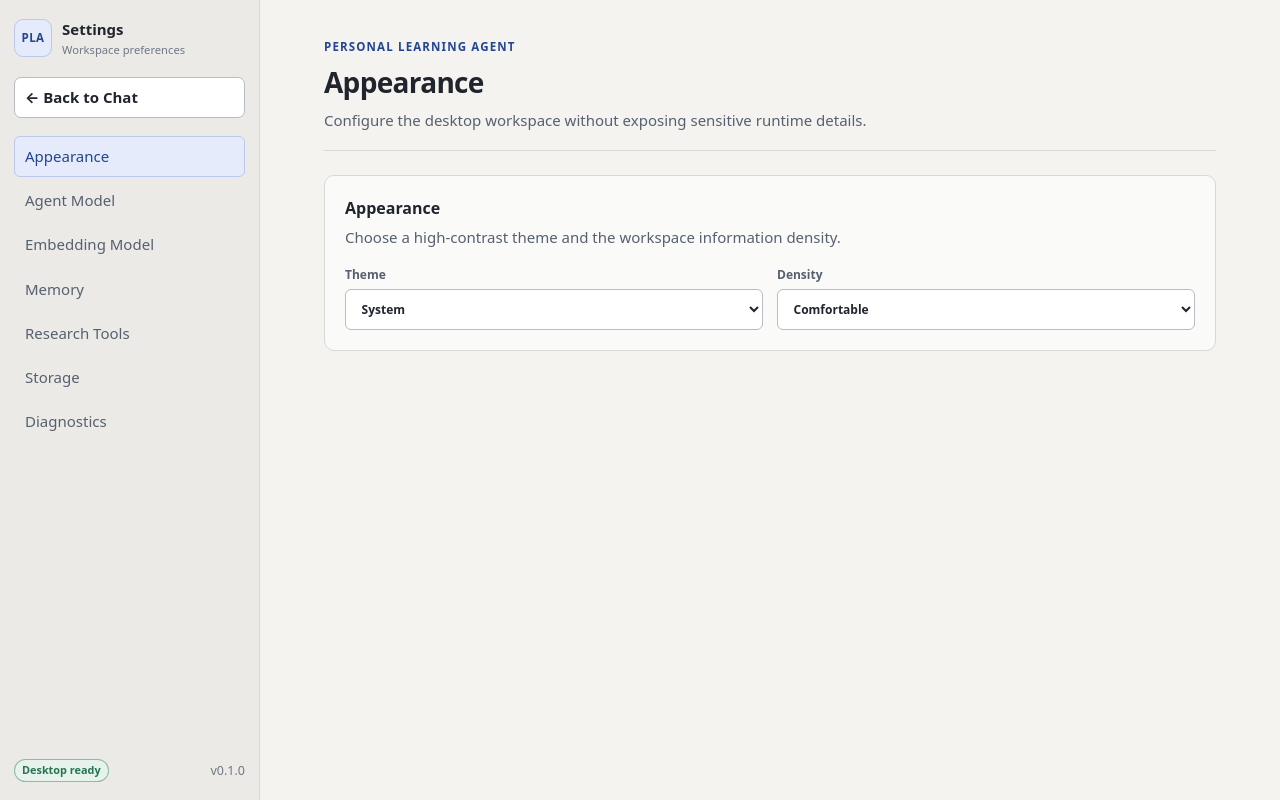
Test: SettingsPage › loads and deletes saved long-term memories from the existing API
The image size is (1280, 800).
Click the button "Memory" at (130, 289), box top-left (14, 269), bottom-right (245, 310)
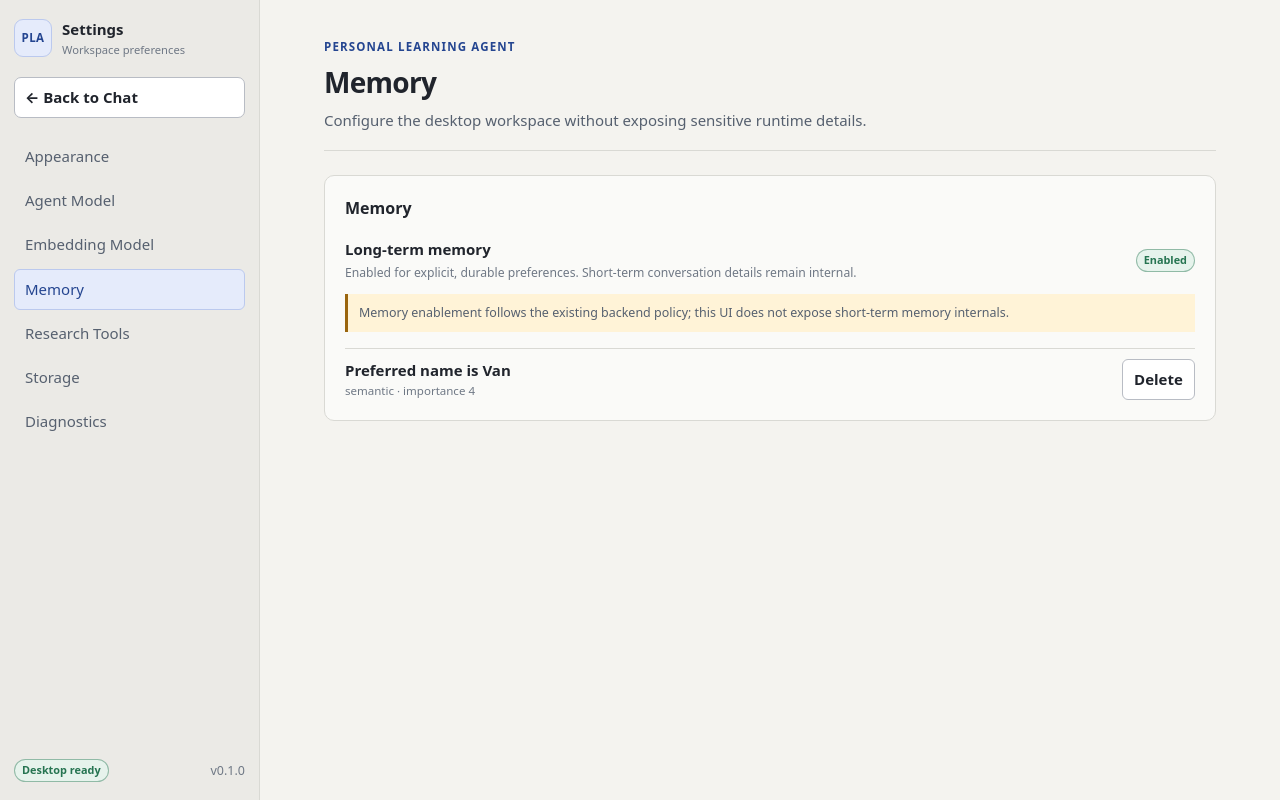
Expected: the text "Preferred name is Van" is shown, top-left (345, 359), bottom-right (511, 382)
Click the button "Delete" at (1158, 379), box top-left (1122, 359), bottom-right (1195, 400)
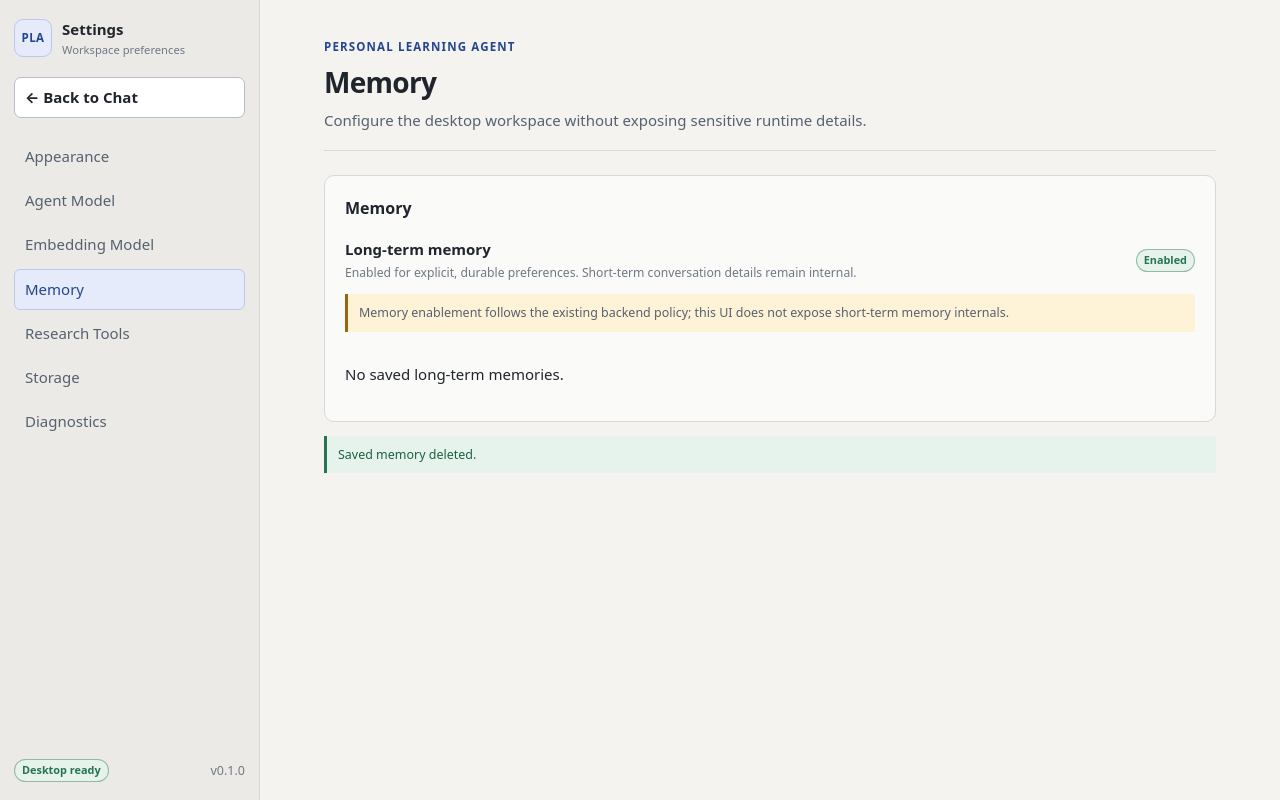
Expected: the text "Preferred name is Van" is gone
